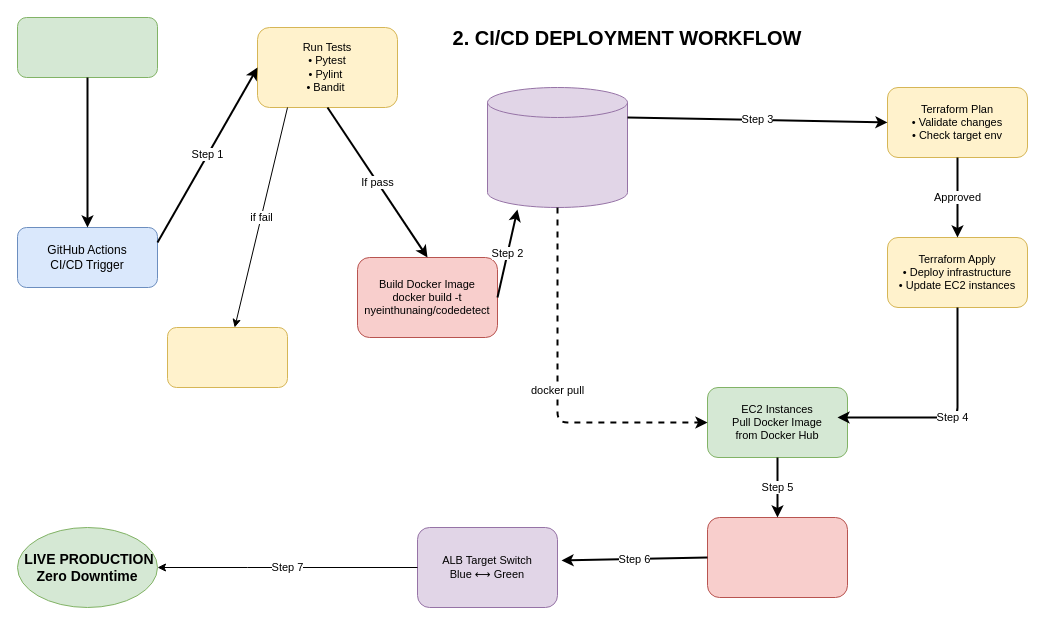
The diagram is 1045 pixels wide and 625 high, and some of its shapes have lost their labels. Each missing label, with the centre of its shape:
"Developer Push to main branch" belongs at pixel 87 47.
"Push to Docker Hub docker push (Image Registry)" belongs at pixel 557 147.
"Run Docker Container docker-compose up (Blue or Green ASG)" belongs at pixel 777 557.
"Workflow failed and exit" belongs at pixel 227 357.
